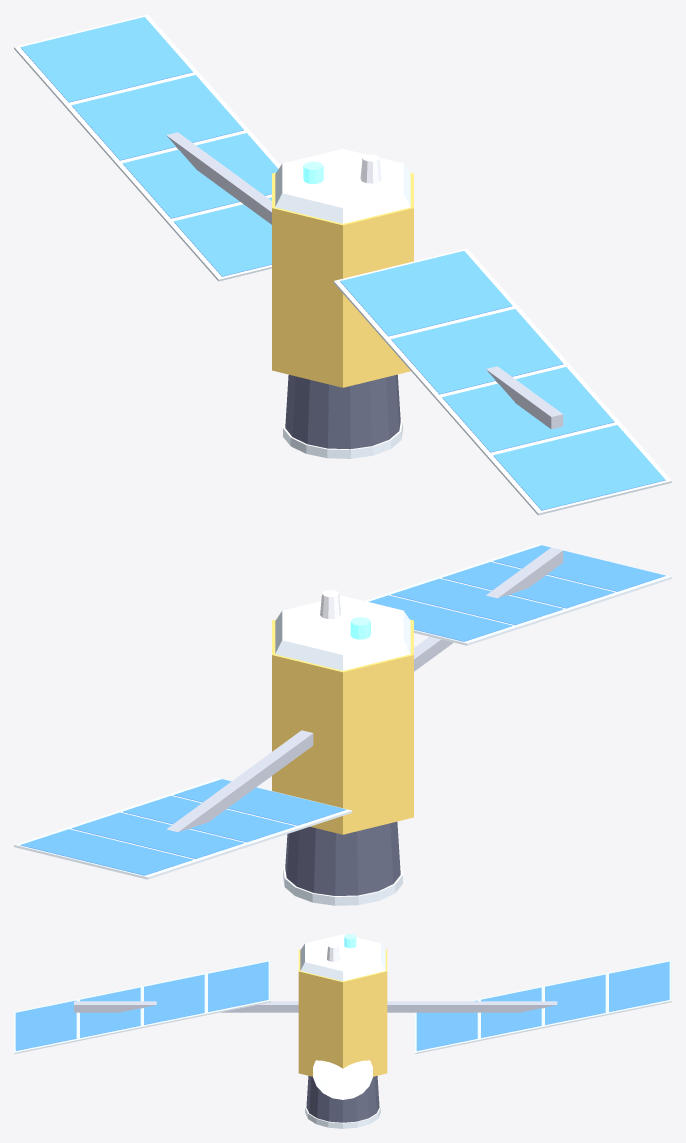
File: earth_obs.glb
3 renders of one model, top to bottom at view 1: azimuth 30°, elevation 25°; view 2: azimuth 150°, elevation 25°; view 3: azimuth 270°, elevation 25°, orthographic. The views are drawn at different scales.
Visible parts, largest first — view 1: Spacecraft; view 2: Spacecraft; view 3: Spacecraft.
Part boxes in pixels (bbox=[...]): Spacecraft: bbox=[14, 14, 671, 515]; Spacecraft: bbox=[14, 544, 671, 905]; Spacecraft: bbox=[14, 934, 671, 1128].
Size of the model in its own units: 4.94 by 7.83 by 26.91.
